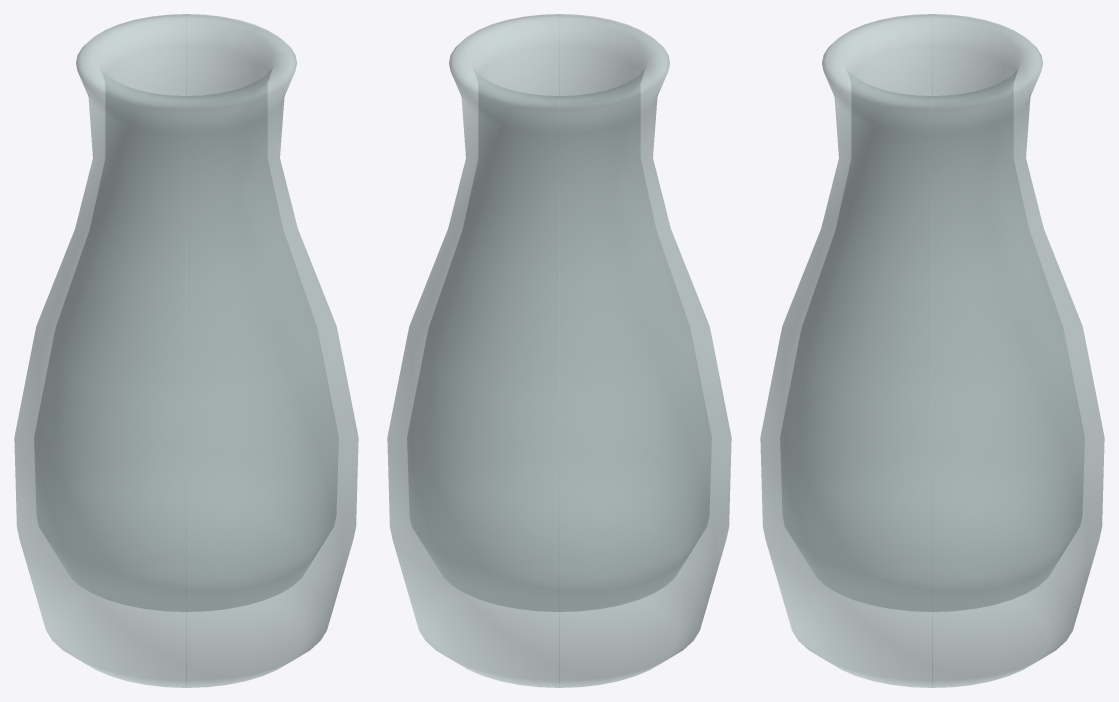
File: trumua-glass-vase.glb
3 renders of one model, left to right at view 1: azimuth 30°, elevation 25°; view 2: azimuth 150°, elevation 25°; view 3: azimuth 270°, elevation 25°, orthographic.
Parts seen in each view (by area): view 1: trumua-glass-vase; view 2: trumua-glass-vase; view 3: trumua-glass-vase.
Part boxes in pixels (x1=…): trumua-glass-vase: x1=14, y1=14, x2=358, y2=687; trumua-glass-vase: x1=387, y1=14, x2=731, y2=687; trumua-glass-vase: x1=760, y1=14, x2=1104, y2=687.
Bounding box in the file's own units: 0.14 × 0.26 × 0.14.
Materials: 1 (1 with a texture image).
